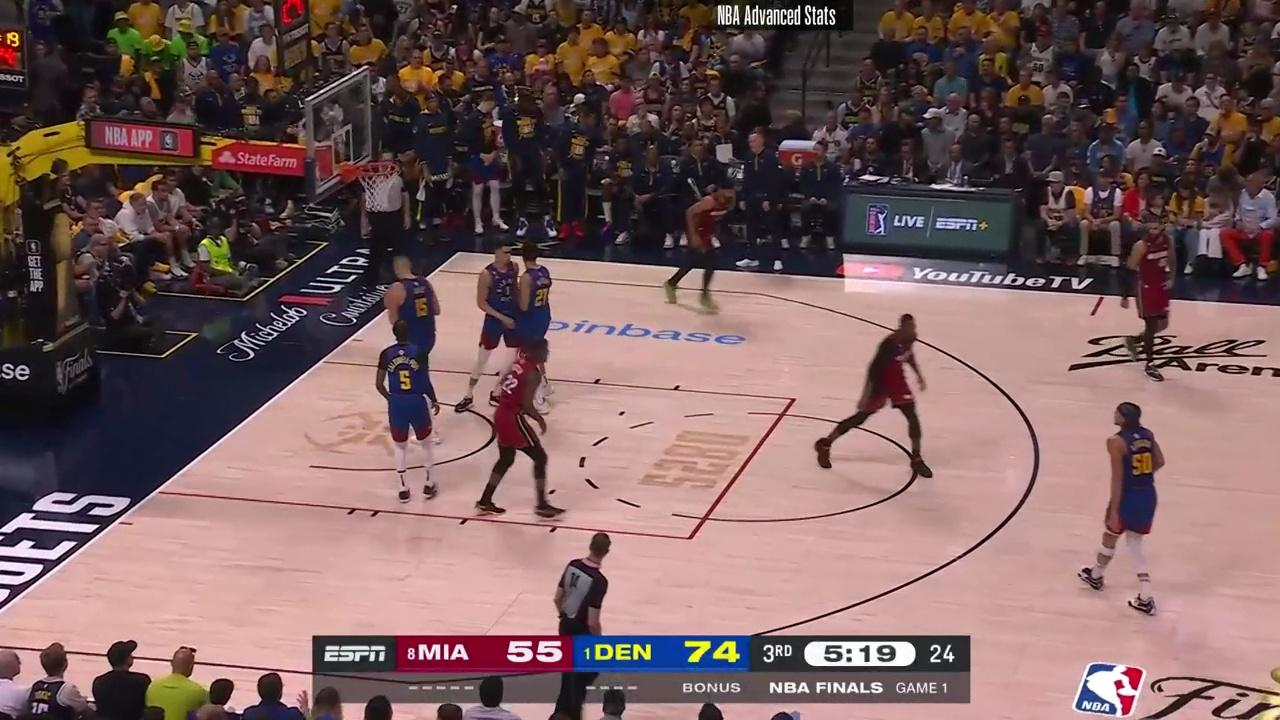Backboard: (296, 74, 381, 187)
Basket: (349, 157, 398, 209)
Person: (814, 312, 940, 486), (1082, 401, 1174, 607), (468, 336, 563, 529), (377, 331, 449, 499), (382, 250, 450, 409), (1121, 213, 1183, 381), (489, 245, 557, 382), (671, 183, 735, 311), (476, 242, 528, 388)
Referee: (555, 530, 622, 636), (361, 160, 418, 272)
Shot Clock: (271, 0, 318, 75), (0, 29, 33, 110)
